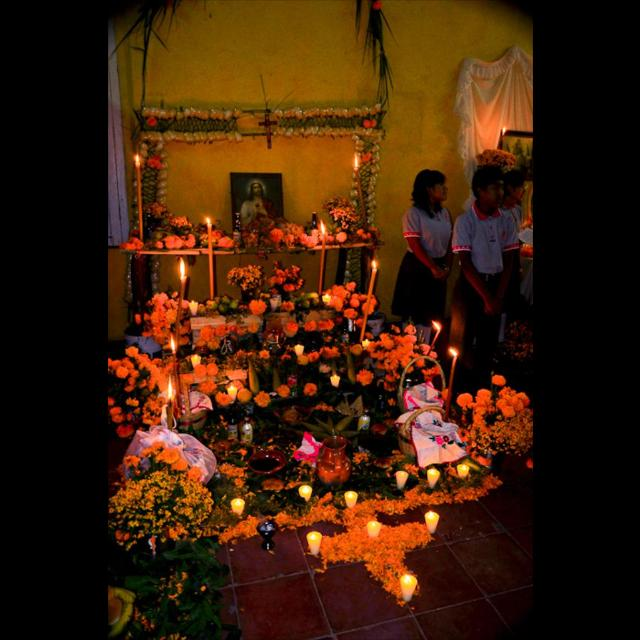Flower: (206, 388, 532, 592), (108, 258, 420, 392), (108, 389, 208, 546), (121, 194, 369, 248), (475, 150, 519, 172), (352, 368, 373, 386), (302, 382, 322, 396), (360, 116, 378, 130), (254, 392, 274, 404), (276, 382, 290, 398), (145, 156, 163, 168), (490, 374, 506, 386), (144, 116, 156, 130), (372, 0, 384, 12)
